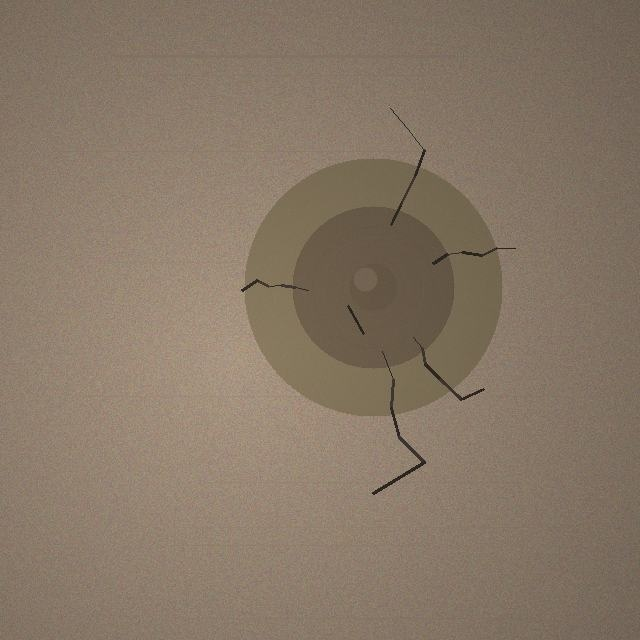crack: (244, 158, 502, 416)
